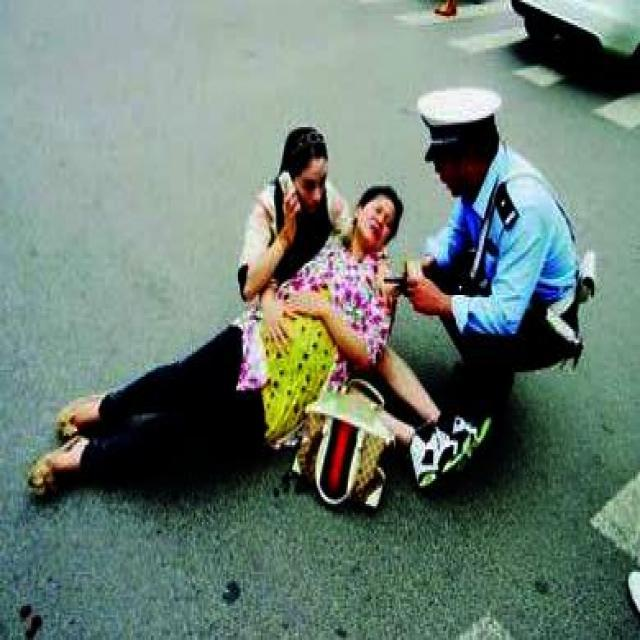fall: (73, 192, 400, 508)
